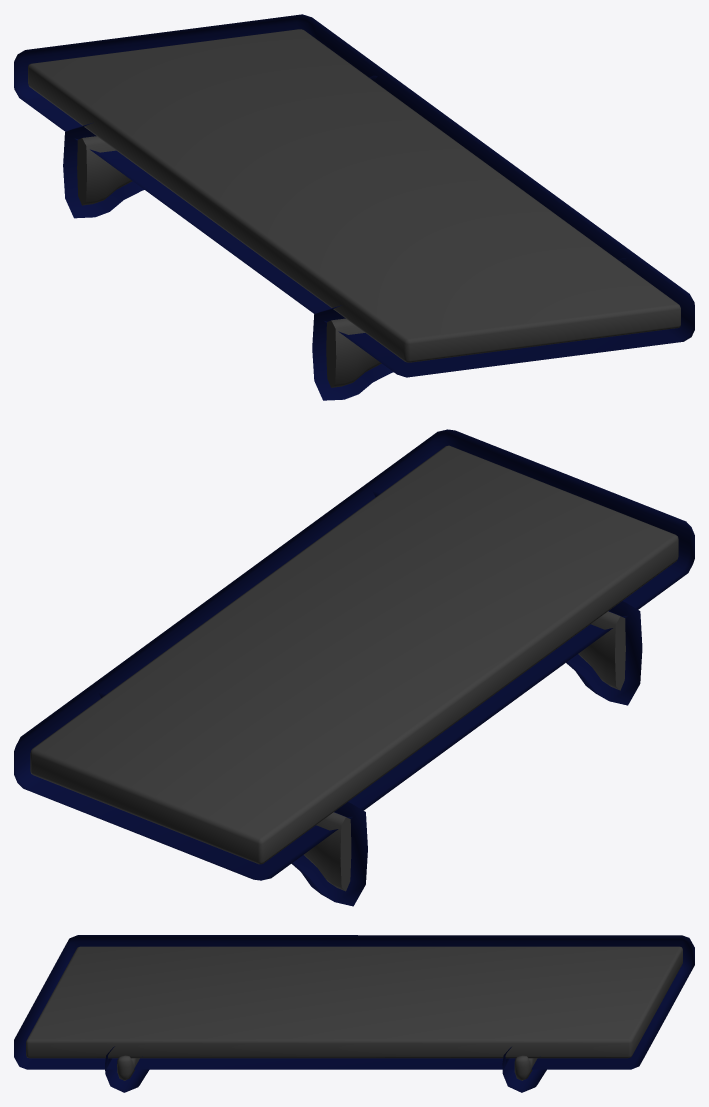
The picture shows the model from 3 angles, top to bottom: view 1: azimuth 30°, elevation 25°; view 2: azimuth 150°, elevation 25°; view 3: azimuth 270°, elevation 25°; orthographic projection. The views are drawn at different scales.
Parts seen in each view (by area): view 1: Shelf_Short; view 2: Shelf_Short; view 3: Shelf_Short.
Part boxes in pixels (left/top/right/bottom): Shelf_Short: left=14, top=14, right=694, bottom=400; Shelf_Short: left=14, top=429, right=694, bottom=906; Shelf_Short: left=14, top=935, right=694, bottom=1092.
Size of the model in its own units: 0.2925 by 0.1124 by 0.7317.
